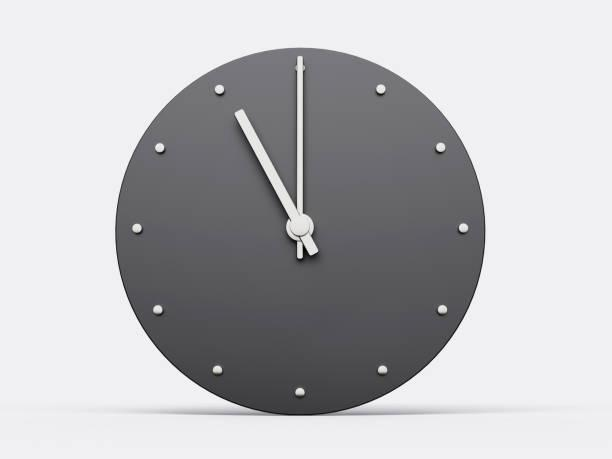clock: (129, 54, 495, 419)
